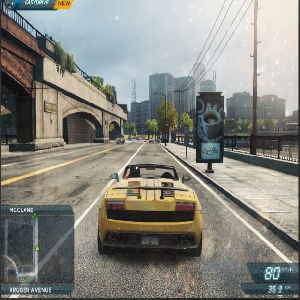ad: (194, 89, 226, 173)
building: (226, 92, 285, 130), (149, 70, 176, 139), (176, 75, 194, 140), (127, 101, 150, 136)
tree: (156, 99, 176, 139), (230, 118, 279, 130), (179, 112, 192, 137)
vehicle: (115, 131, 126, 145)
